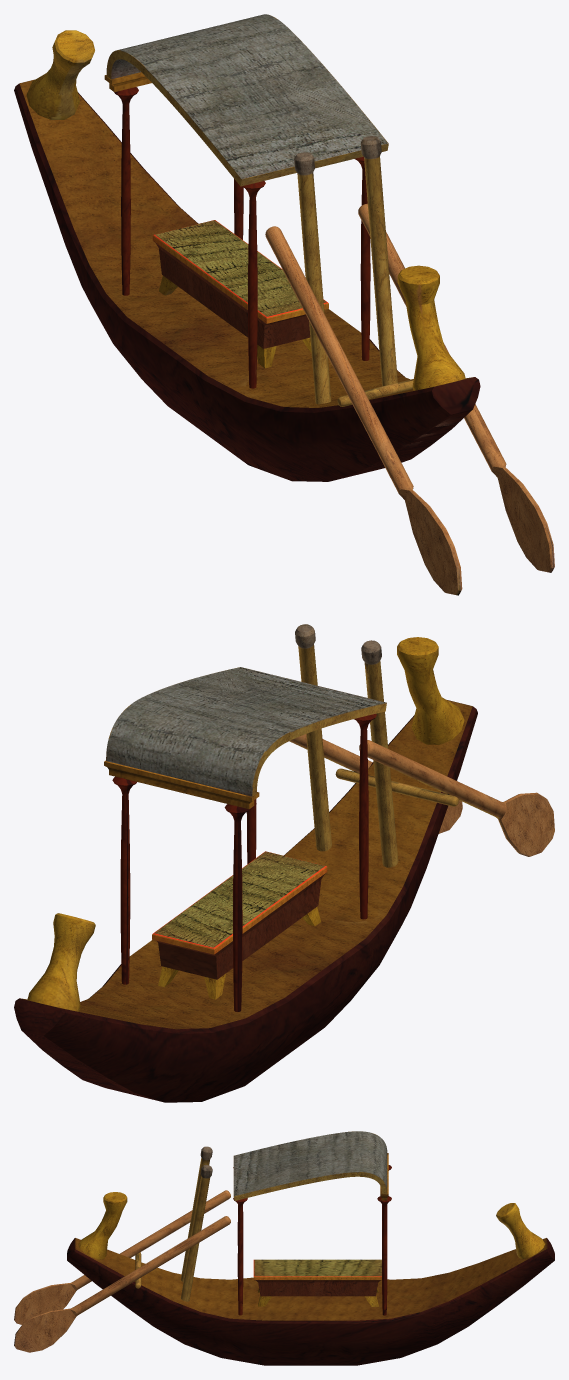
File: egyptian_boat.glb
The picture shows the model from 3 angles, top to bottom: view 1: azimuth 30°, elevation 25°; view 2: azimuth 150°, elevation 25°; view 3: azimuth 270°, elevation 25°; orthographic projection. The views are drawn at different scales.
Parts seen in each view (by area): view 1: Egyptian Boat_0; view 2: Egyptian Boat_0; view 3: Egyptian Boat_0.
Boxes of the visible parts, <box> form: Egyptian Boat_0: <box>14,14,554,595</box>; Egyptian Boat_0: <box>14,624,554,1102</box>; Egyptian Boat_0: <box>14,1131,554,1365</box>.
Bounding box in the file's own units: 0.7919 × 1.63 × 3.93.
Materials: 1 (1 with a texture image).
